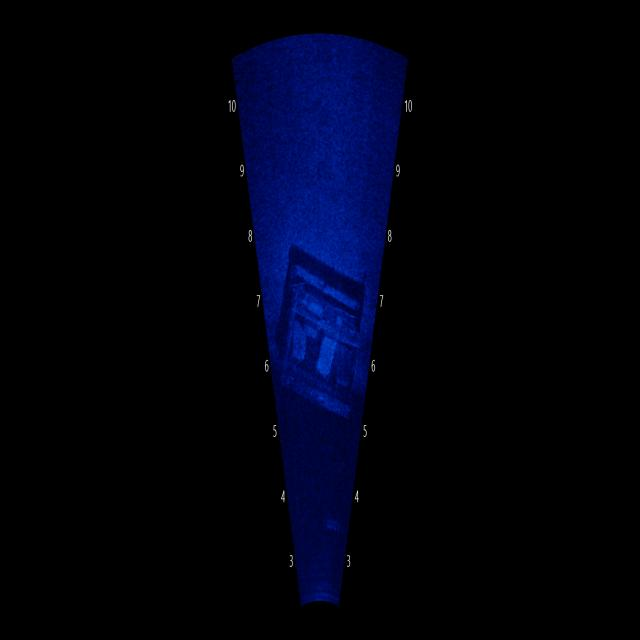square: (267, 234, 367, 423)
